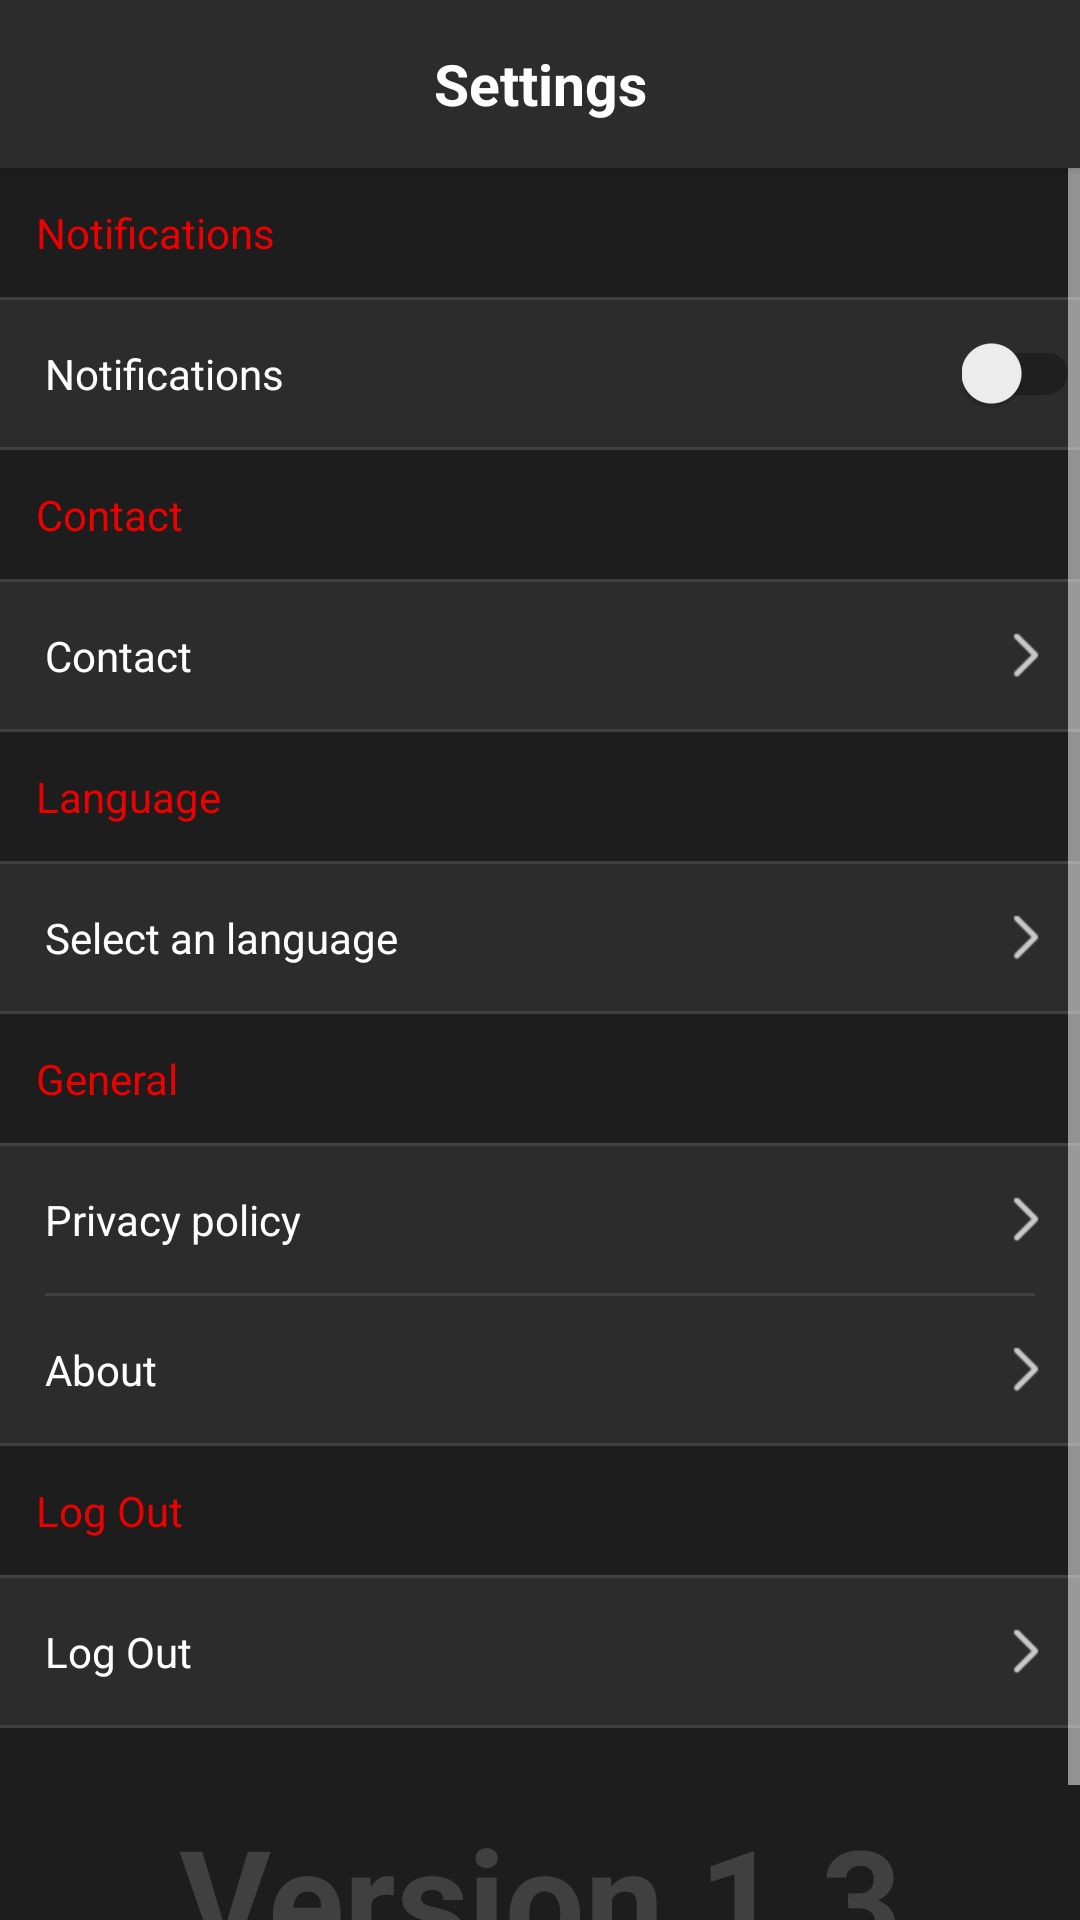

Screen size 1080px x 1920px. Icon name, then its box in pixels as rect(x1, y1, x2, y2):
nextarrow: rect(1014, 634, 1039, 677), rect(1014, 916, 1039, 959), rect(1014, 1198, 1039, 1241), rect(1014, 1348, 1039, 1391), rect(1014, 1630, 1039, 1673)
